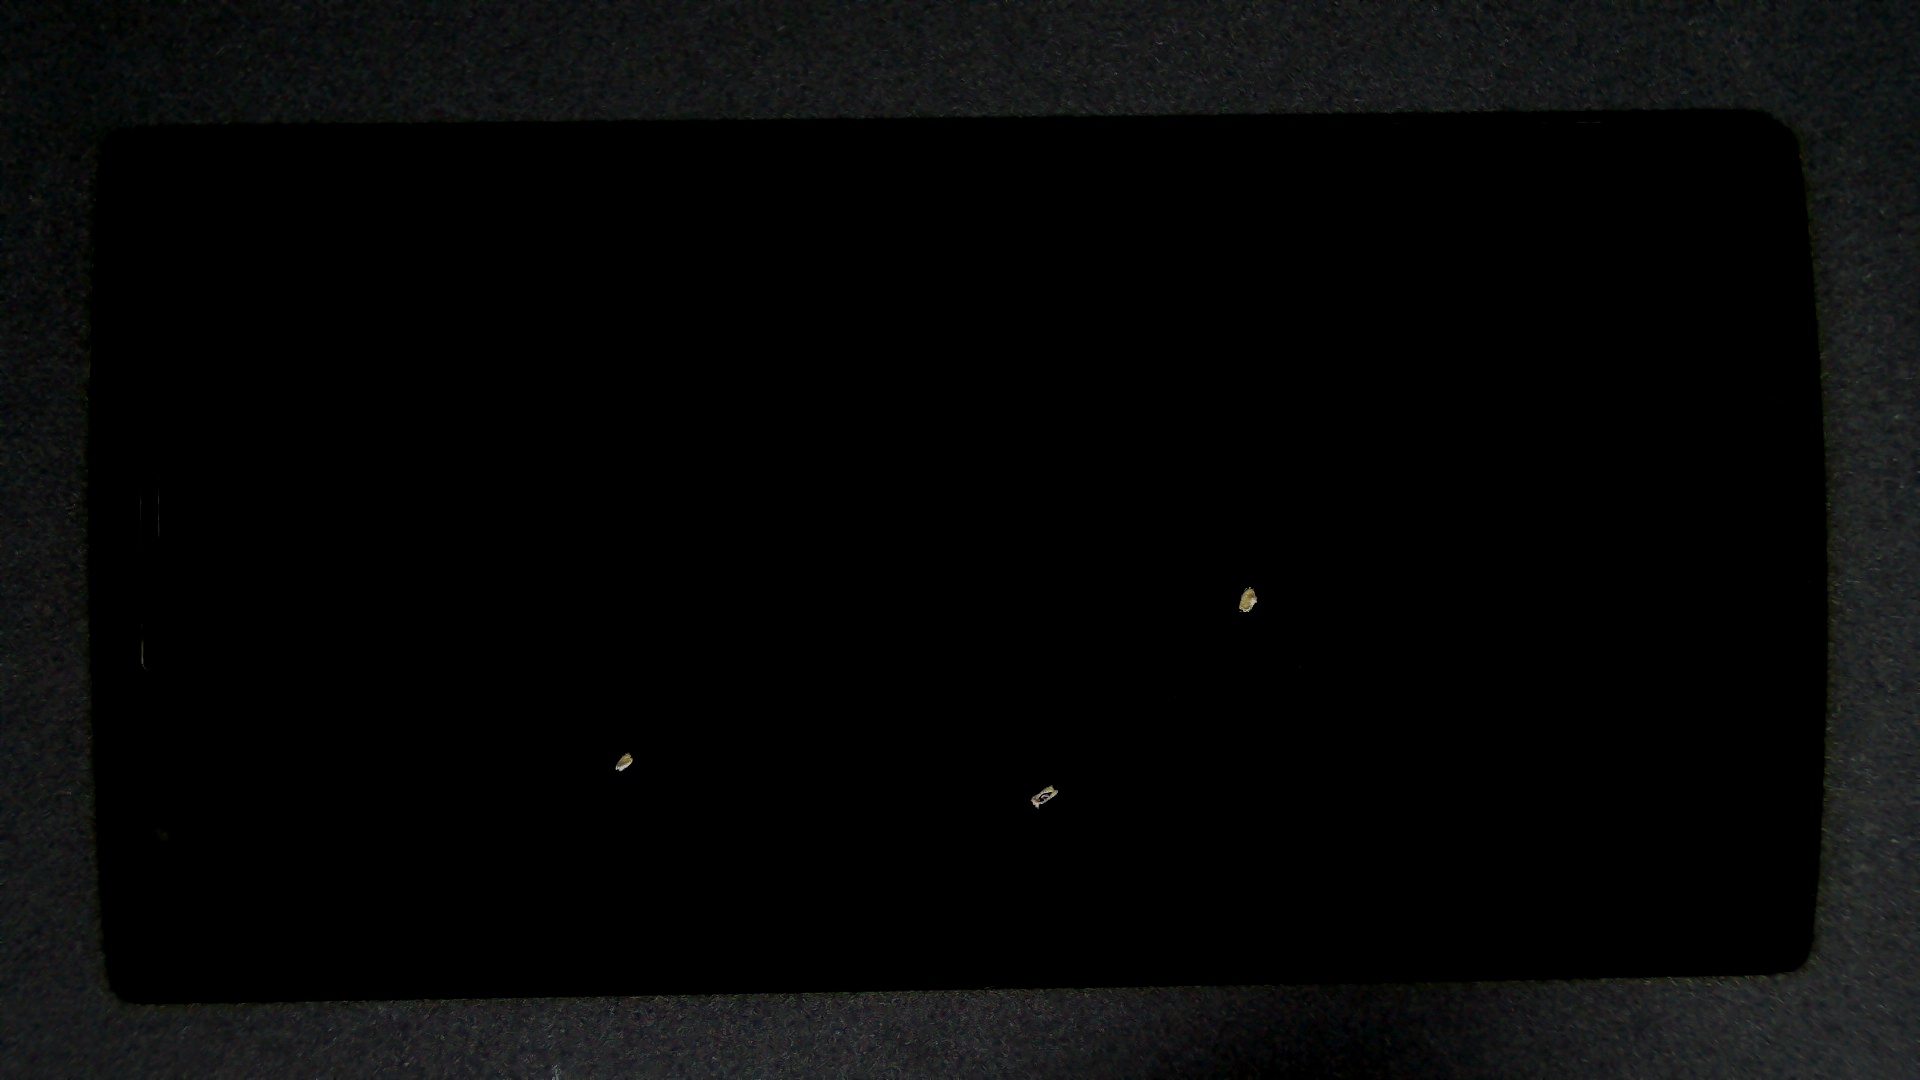oil: (625, 293, 1871, 880), (526, 392, 1575, 1080), (314, 375, 939, 1080)
